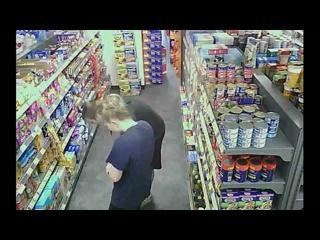Normal: (95, 93, 157, 210)
